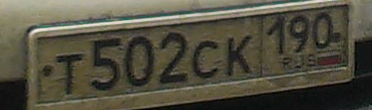character: (156, 33, 193, 85), (90, 36, 123, 91), (124, 35, 156, 87), (223, 34, 256, 81), (54, 51, 85, 96), (192, 32, 221, 79), (289, 11, 313, 56), (266, 14, 289, 58), (314, 8, 334, 53)
